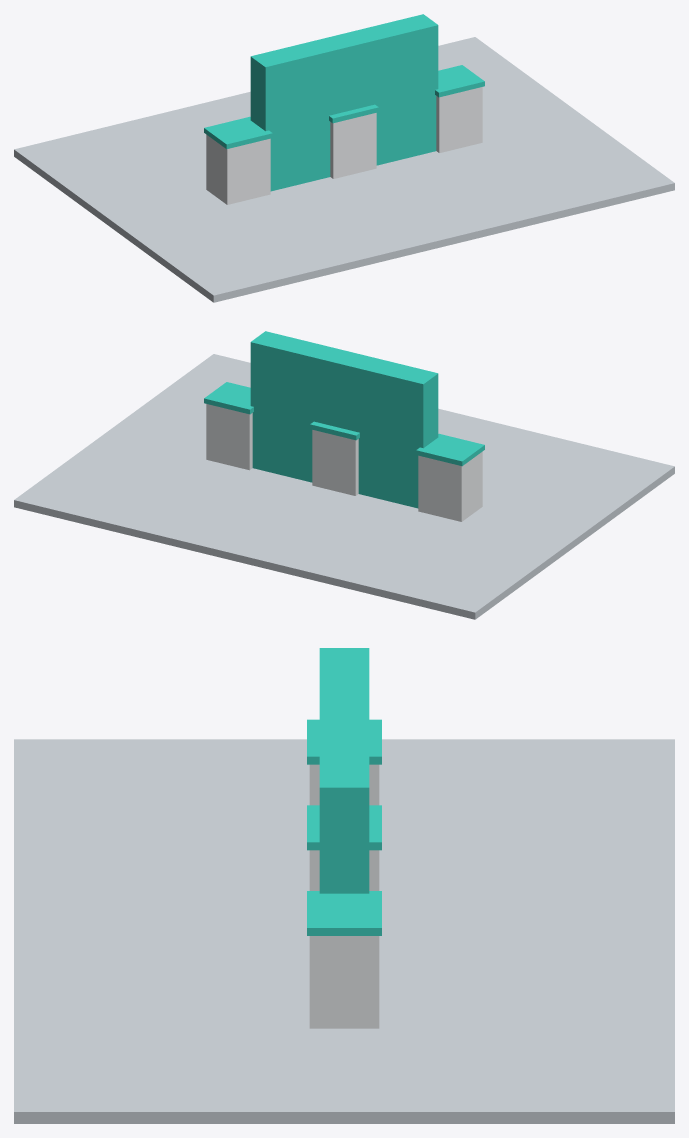
3 renders of one model, top to bottom at view 1: azimuth 30°, elevation 25°; view 2: azimuth 150°, elevation 25°; view 3: azimuth 270°, elevation 25°, orthographic. The views are drawn at different scales.
Parts seen in each view (by area): view 1: Exhibition Booth Concept; view 2: Exhibition Booth Concept; view 3: Exhibition Booth Concept.
Boxes of the visible parts, <box> form: Exhibition Booth Concept: <box>14,14,674,302</box>; Exhibition Booth Concept: <box>14,331,674,619</box>; Exhibition Booth Concept: <box>14,648,674,1123</box>.
Size of the model in its own units: 8 by 2.2 by 6.
